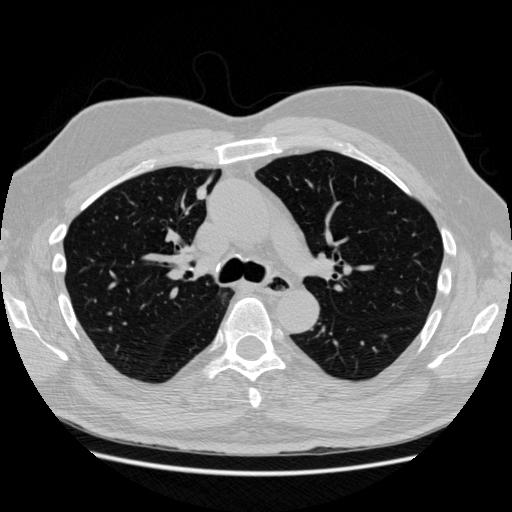nodule: (192, 183, 210, 201)
